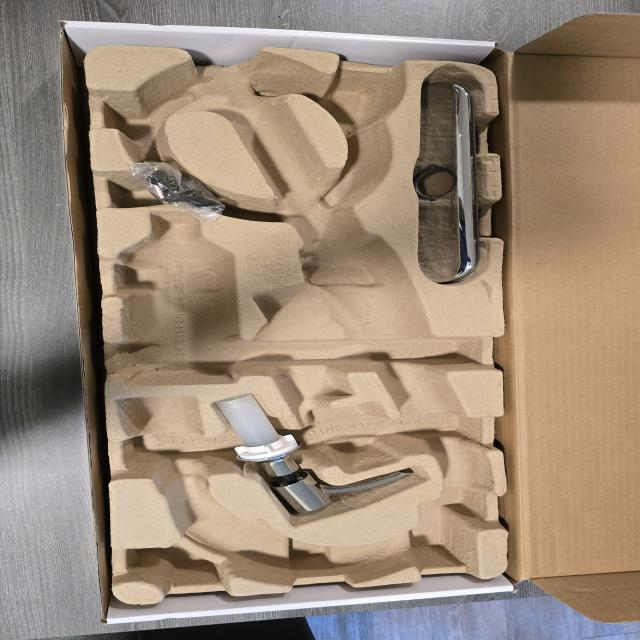1m: (121, 53, 493, 580)
2: (215, 394, 417, 515)
3m: (115, 211, 234, 385)
4: (413, 81, 481, 283)
5m: (324, 82, 387, 129)
6m: (110, 79, 196, 145)
7: (126, 163, 230, 224)
